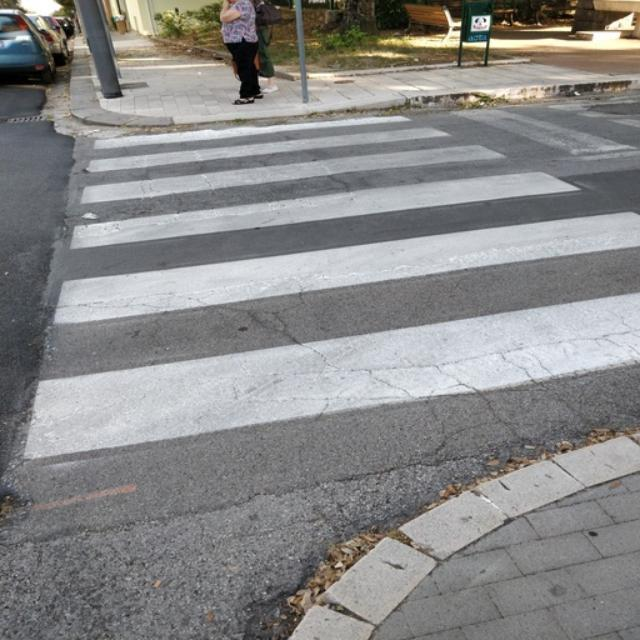sidewalk: (22, 112, 640, 469)
